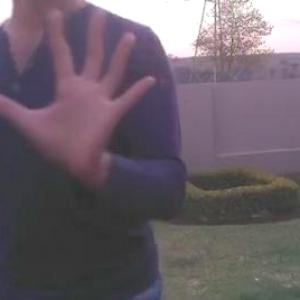follow_hand: (1, 1, 165, 170)
